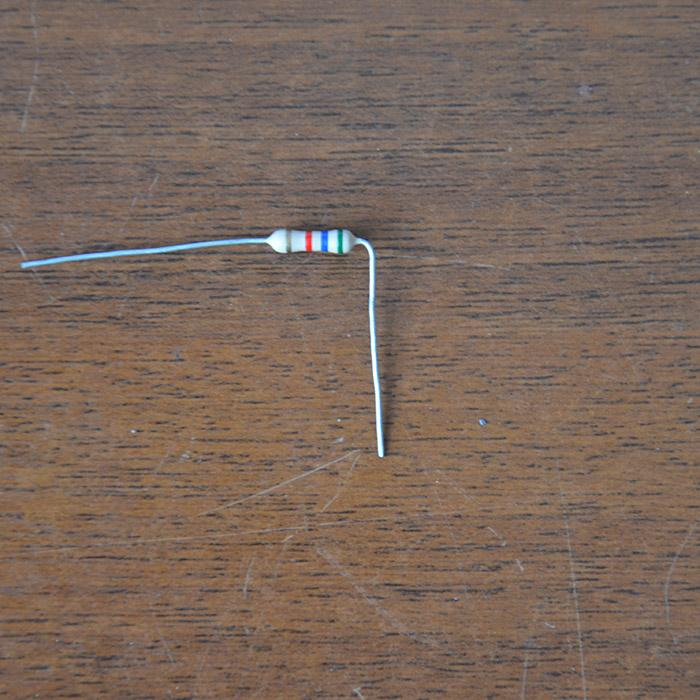resistor: (271, 227, 355, 254)
